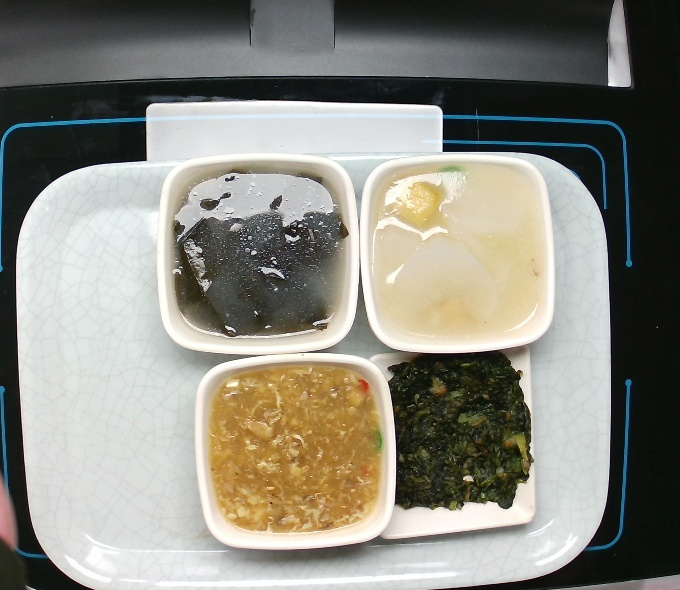wcq-HaiDaiPaiGuTang: (167, 165, 355, 343)
wcq-LuoBoYouPaoTang: (373, 162, 546, 346)
wcq-QinCaiBing: (376, 348, 536, 516)
wcq-SuanLaGeng: (208, 360, 385, 534)
